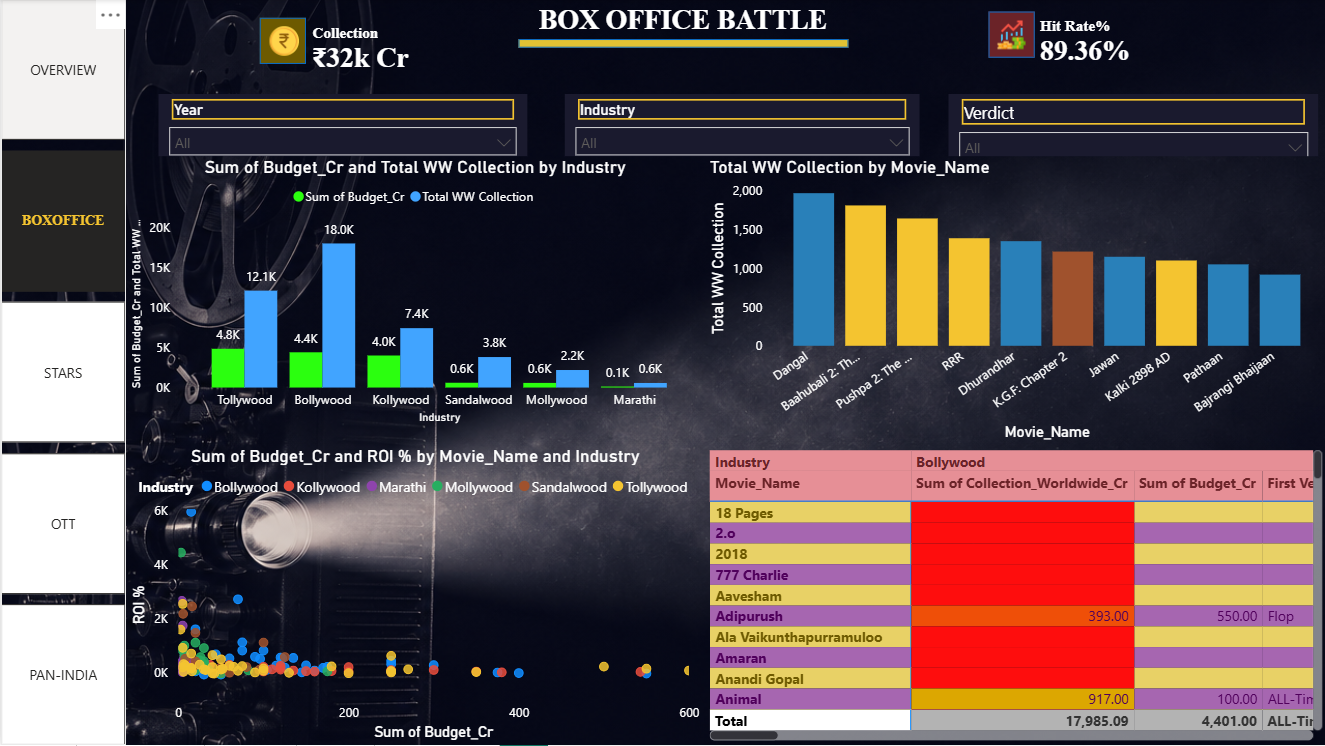

The page's visual inventory and layout, read from the dashboard file:
{"tool":"powerbi","page":{"name":"BOXOFFICE","canvas":[1280,720],"ordinal":1},"visuals":[{"type":"clusteredColumnChart","fields":{"Y":["Sum(Movies.Budget_Cr)","Movies.Total WW Collection"],"Category":["Stars.Industry"]},"box":[120.6,152,558.6,263],"z":0},{"type":"scatterChart","fields":{"X":["Sum(Movies.Budget_Cr)"],"Y":["Movies.ROI %"],"Category":["Movies.Movie_Name"],"Series":["Movies.Industry"]},"box":[120.6,430.7,558.6,289.5],"z":1000},{"type":"columnChart","fields":{"Category":["Movies.Movie_Name"],"Y":["Movies.Total WW Collection"]},"box":[679.2,152,600.8,278.7],"z":2000},{"type":"pivotTable","fields":{"Rows":["Movies.Movie_Name"],"Values":["Sum(Movies.Collection_Worldwide_Cr)","Sum(Movies.Budget_Cr)","Min(Movies.Verdict)"],"Columns":["Movies.Industry"]},"box":[679.2,430.7,600.8,289.5],"z":3000},{"type":"pageNavigator","box":[0,0,120.6,720.2],"z":4000},{"type":"textbox","box":[507.9,0,300.4,47.1],"z":5000},{"type":"shape","box":[499.5,38.6,318.5,8.4],"z":6000},{"type":"slicer","fields":{"Values":["Movies.Year"]},"box":[152,91.7,355.9,60.3],"z":7000},{"type":"slicer","fields":{"Values":["Movies.Industry"]},"box":[544.1,91.7,342.6,60.3],"z":8000},{"type":"shape","box":[249.7,18.1,44.6,44.6],"z":9000,"group":"g4"},{"type":"textbox","box":[295.5,18.1,148,59.1],"z":9000,"group":"g1"},{"type":"slicer","fields":{"Values":["Movies.Verdict"]},"box":[914.5,91.7,357.1,60.3],"z":9000},{"type":"group","id":"g1","title":"Group 8","box":[249.7,18.1,194.2,59.1],"z":10000},{"type":"image","box":[258.1,25.3,30.2,30.2],"z":10000,"group":"g4"},{"type":"group","id":"g2","title":"Group 10","box":[953.1,12.1,194.2,59.1],"z":11000},{"type":"textbox","box":[997.7,12.1,149.6,59.1],"z":11000,"group":"g2"},{"type":"shape","box":[953.1,12.1,44.6,44.6],"z":15000,"group":"g3"},{"type":"group","id":"g3","title":"Group 4","box":[953.1,12.1,44.6,44.6],"z":17000,"group":"g2"},{"type":"image","box":[960.3,19.3,30.2,30.2],"z":17000,"group":"g3"},{"type":"group","id":"g4","title":"Group 6","box":[249.7,18.1,44.6,44.6],"z":19000,"group":"g1"}]}

Visuals, with their boxes on the page's 1280x720 design canvas (x1, y1, x2, y2). These are canvas units, not pixel positions in the 1325x746 screenshot, which may show the page scaled, cropped or inside an application window:
clusteredColumnChart - Sum(Movies.Budget_Cr) x Movies.Total WW Collection: locate(121, 152, 679, 415)
scatterChart - Sum(Movies.Budget_Cr) x Movies.ROI %: locate(121, 431, 679, 720)
columnChart - Movies.Movie_Name x Movies.Total WW Collection: locate(679, 152, 1280, 431)
pivotTable - Movies.Movie_Name x Sum(Movies.Collection_Worldwide_Cr): locate(679, 431, 1280, 720)
pageNavigator: locate(0, 0, 121, 720)
textbox: locate(508, 0, 808, 47)
shape: locate(500, 39, 818, 47)
slicer - Movies.Year: locate(152, 92, 508, 152)
slicer - Movies.Industry: locate(544, 92, 887, 152)
shape: locate(250, 18, 294, 63)
textbox: locate(296, 18, 444, 77)
slicer - Movies.Verdict: locate(914, 92, 1272, 152)
"Group 8" group: locate(250, 18, 444, 77)
image: locate(258, 25, 288, 56)
"Group 10" group: locate(953, 12, 1147, 71)
textbox: locate(998, 12, 1147, 71)
shape: locate(953, 12, 998, 57)
"Group 4" group: locate(953, 12, 998, 57)
image: locate(960, 19, 990, 50)
"Group 6" group: locate(250, 18, 294, 63)
